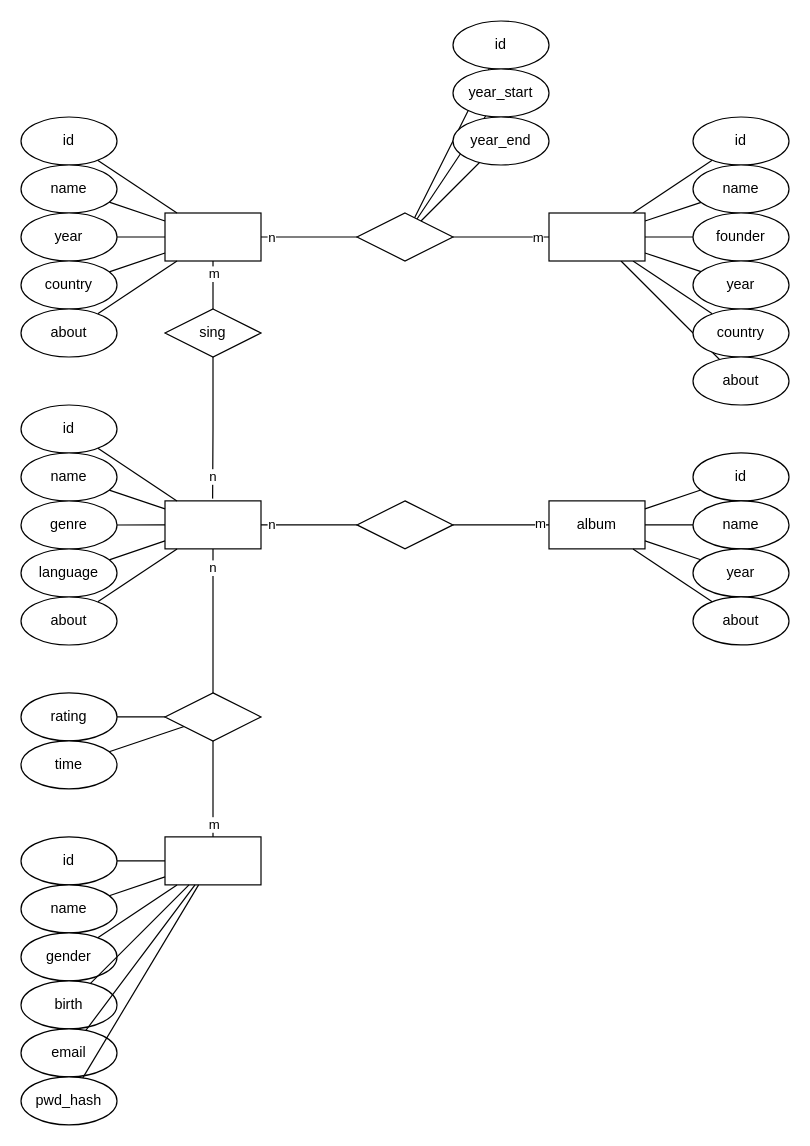
Image size: 810x1146. Some labels were removed from this diagram. Here are the shapes that lost their labels. From the top down, the centre of each, then its label:
[212,236]: band
[404,236]: cooperate
[596,236]: label
[212,524]: song
[404,524]: include
[212,716]: rate
[212,860]: listener
